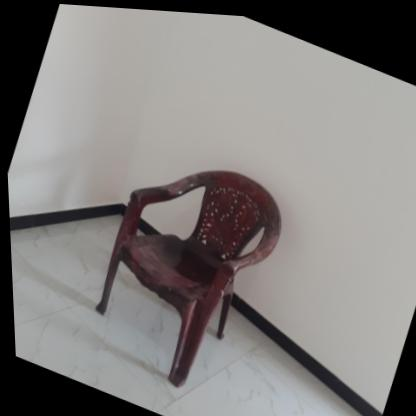Chair: (70, 130, 298, 408)
